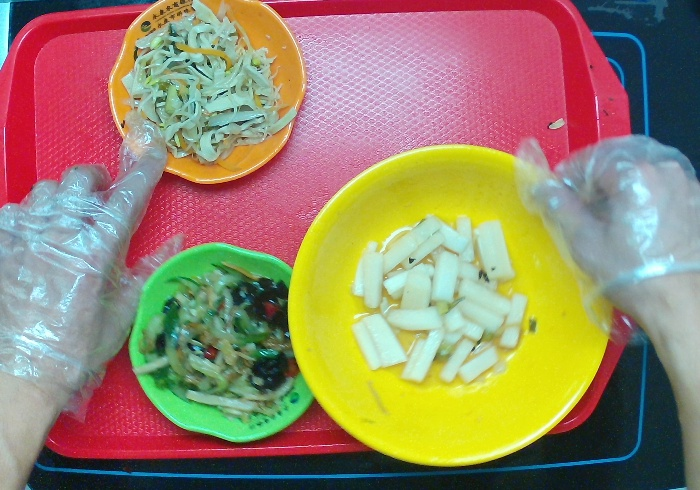YKMZ-Huang_Se_Tang_Wan: (284, 142, 606, 470)
YKMZ-Ju_Se_Ao_Bian_Wan: (109, 1, 308, 187)
YKMZ-Lv_Se_Ao_Bian_Wan: (128, 239, 313, 442)
